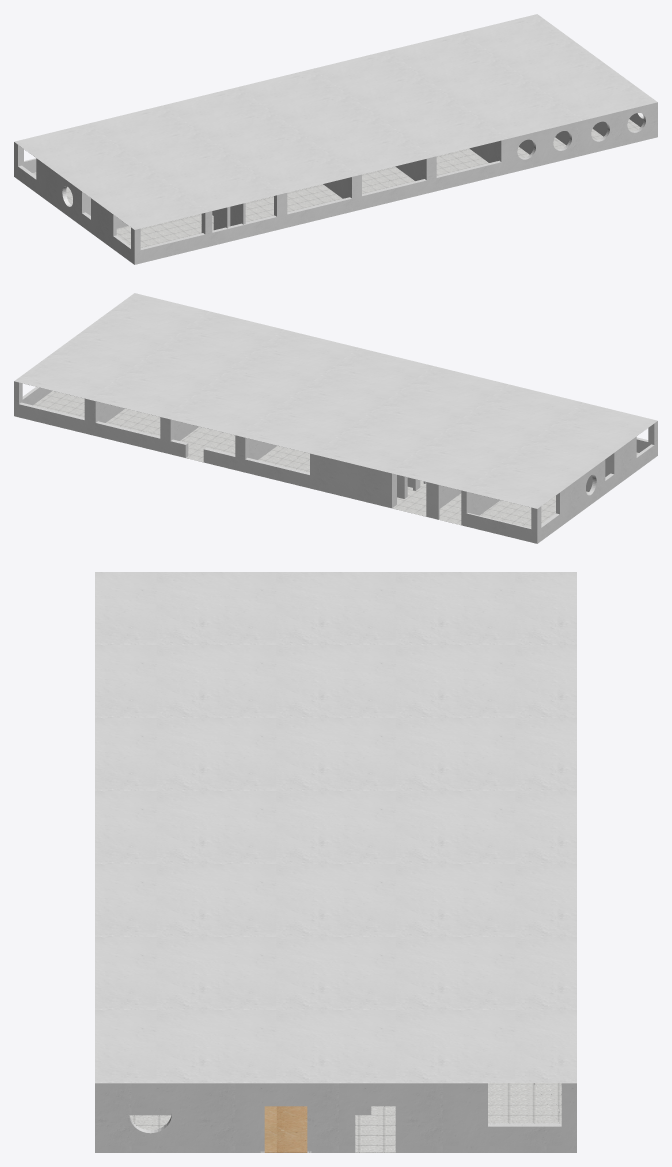
Rendered from roof_UAMT.dae.
3 renders of one model, top to bottom at view 1: azimuth 30°, elevation 25°; view 2: azimuth 150°, elevation 25°; view 3: azimuth 270°, elevation 25°, orthographic. The views are drawn at different scales.
Parts seen in each view (by area): view 1: roof_UAMT, walls_UAMT, floor_rooms_UAMT; view 2: roof_UAMT, walls_UAMT, floor_rooms_UAMT; view 3: roof_UAMT, walls_UAMT, floor_rooms_UAMT, floor_corridor_UAMT.
Boxes of the visible parts, x1,y1,x2,y2 form: roof_UAMT: (14,14,657,229); walls_UAMT: (14,102,657,264); floor_rooms_UAMT: (27,119,640,260); roof_UAMT: (14,293,657,508); walls_UAMT: (14,381,657,543); floor_rooms_UAMT: (15,391,644,543); roof_UAMT: (95,572,576,1082); walls_UAMT: (95,1083,576,1152); floor_rooms_UAMT: (129,1083,561,1152); floor_corridor_UAMT: (264,1106,307,1152).
Size of the model in its own units: 50.55 by 20.17 by 3.23.
4 materials, 4 textured.
